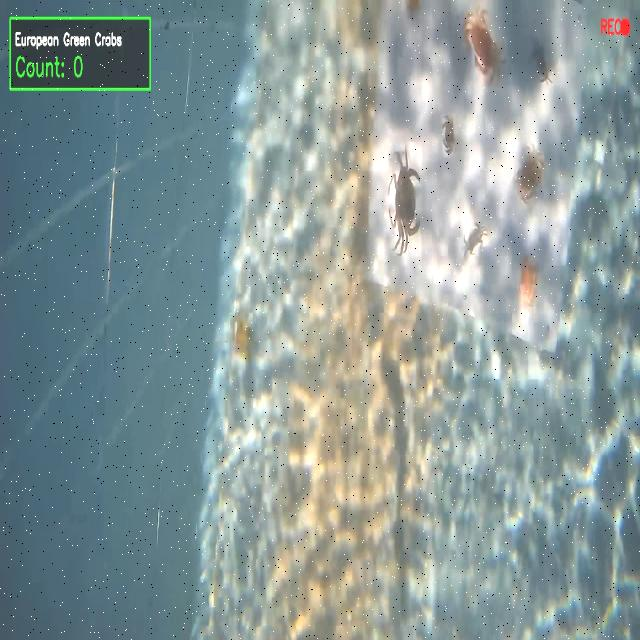European_Green_Crab: (386, 143, 425, 261), (527, 31, 557, 96), (460, 214, 489, 266)
